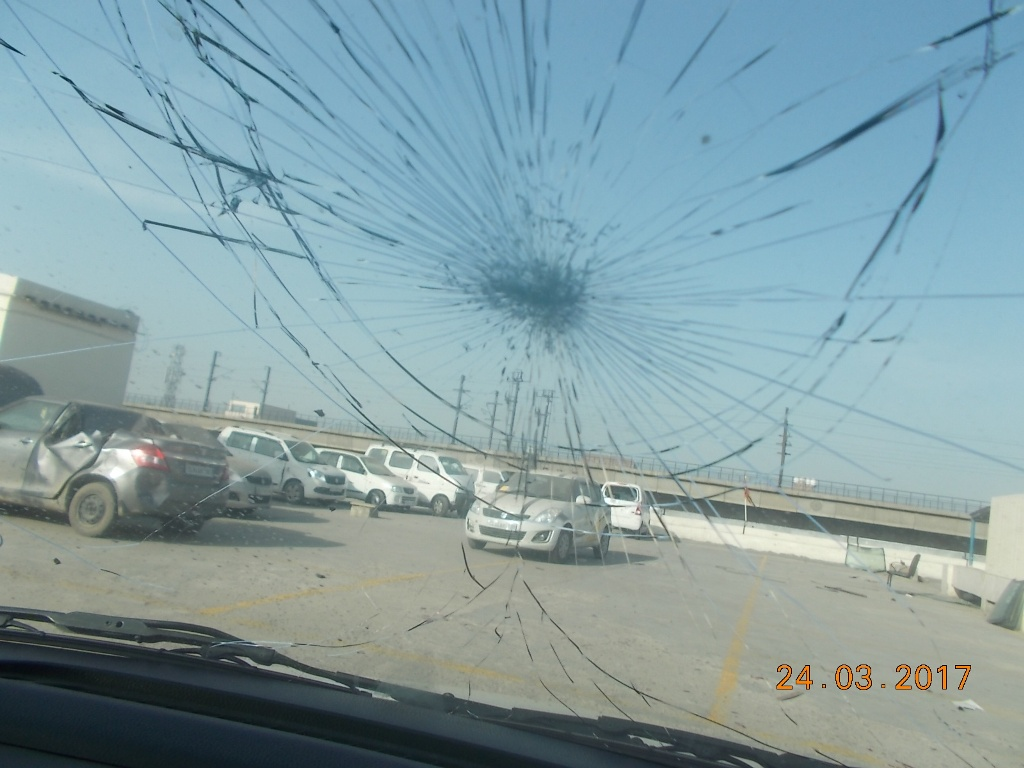Shatter: (364, 73, 711, 446), (87, 19, 348, 329), (738, 14, 971, 305)
